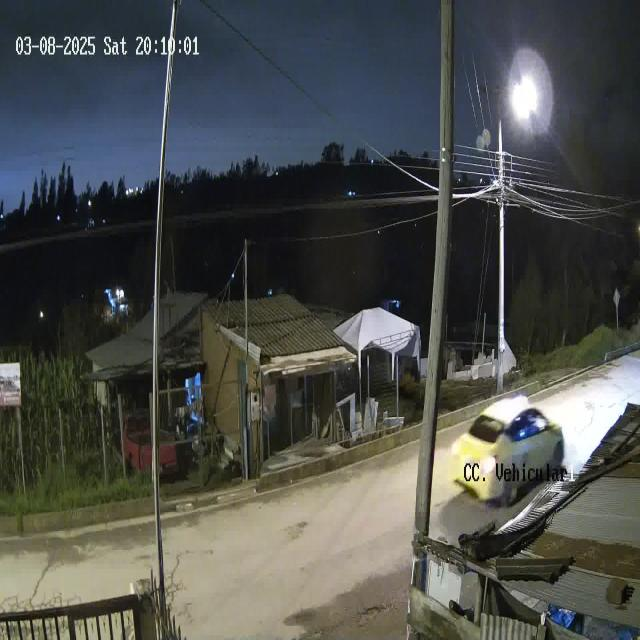SED: (450, 391, 565, 501)
